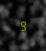nine: (19, 20, 25, 31)
